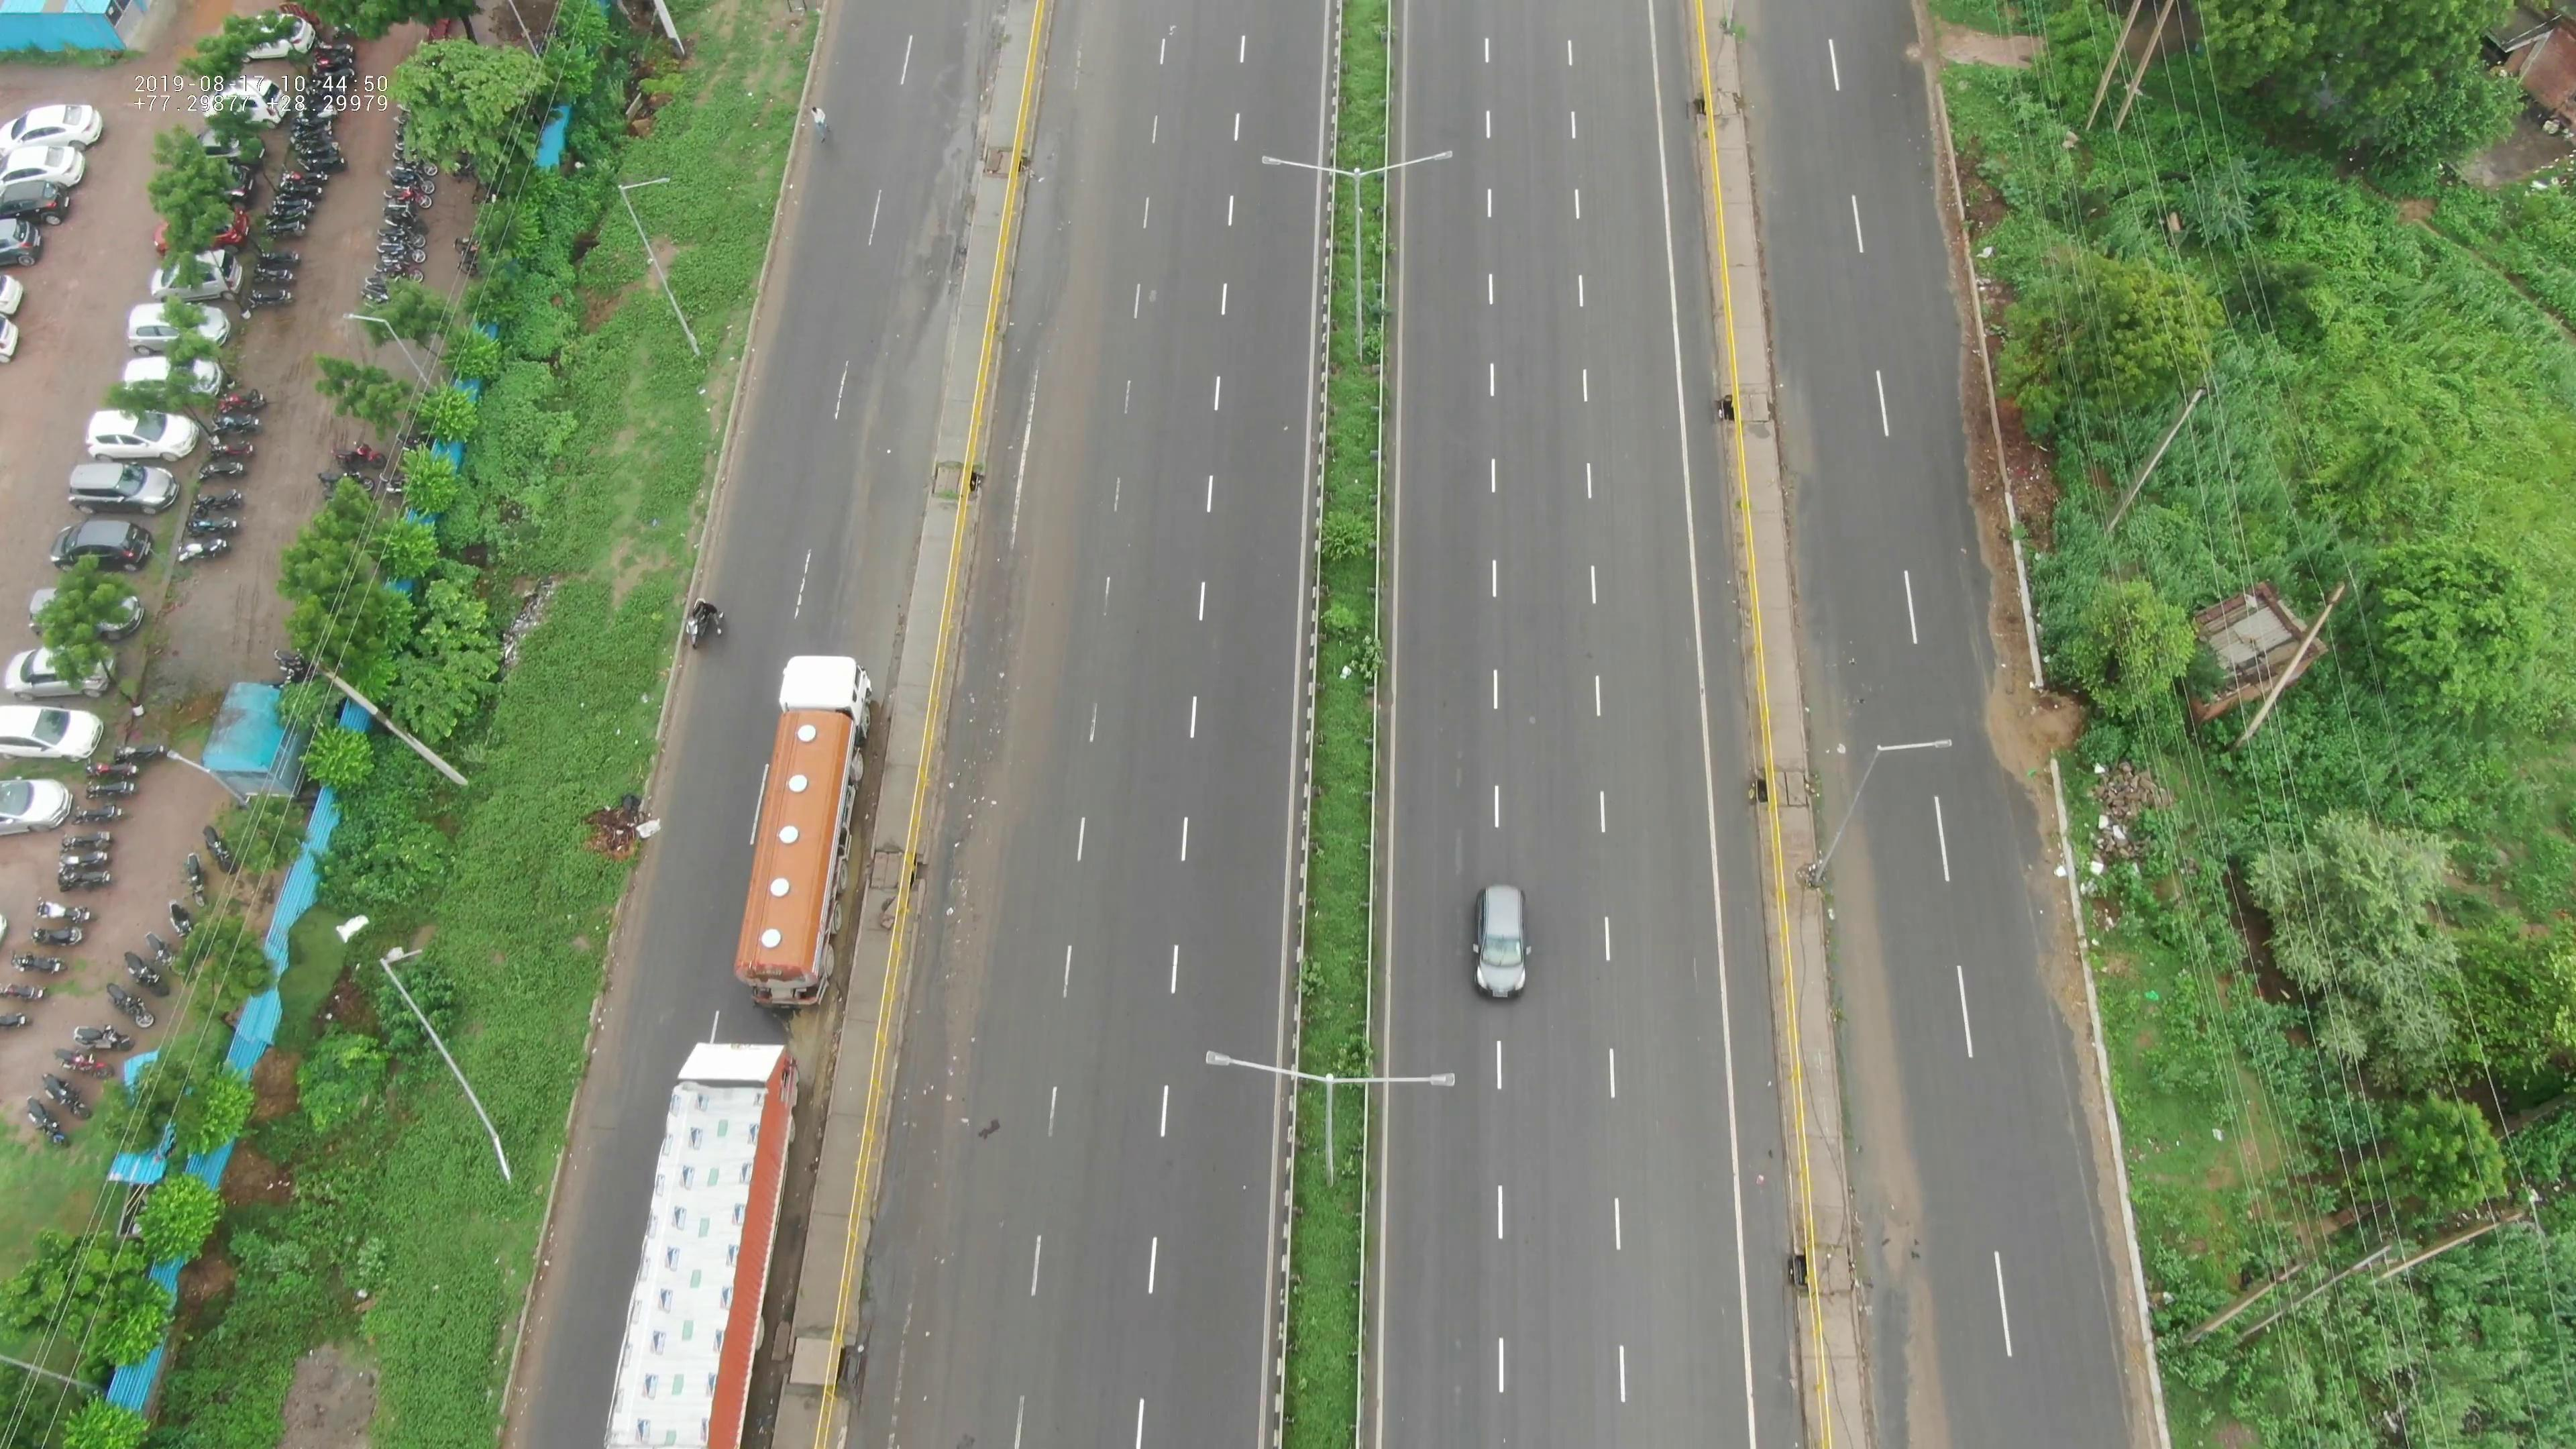Muddy_road: (1937, 347, 2065, 559), (1948, 584, 2081, 782)
